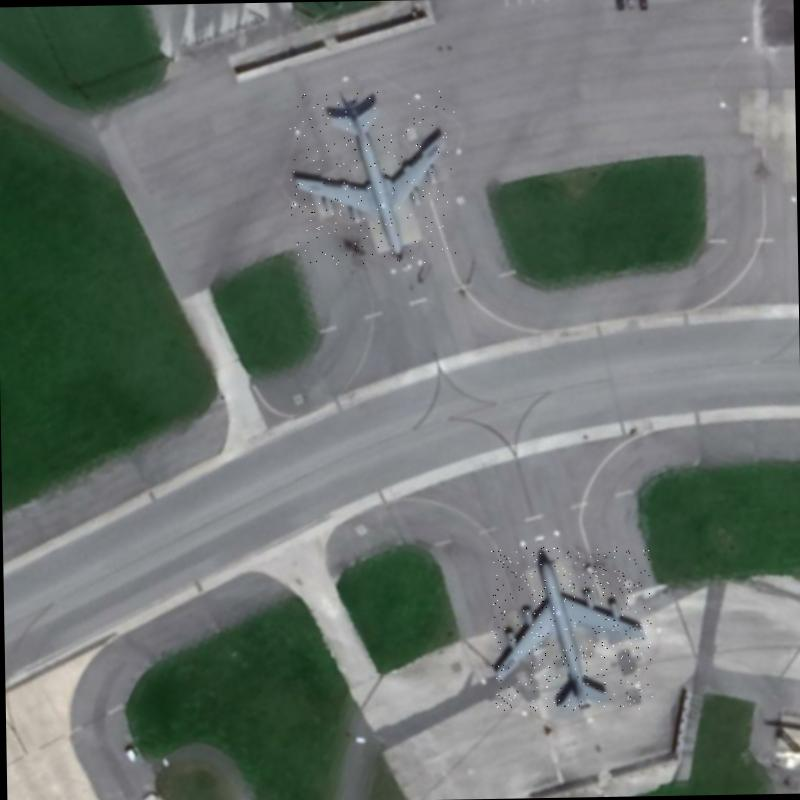A14: (288, 90, 457, 265), (489, 544, 652, 712)
